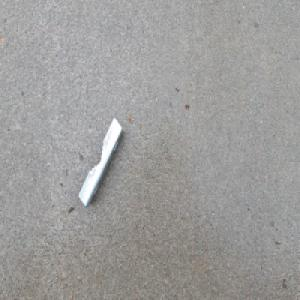ClampPart: (77, 117, 123, 209)
